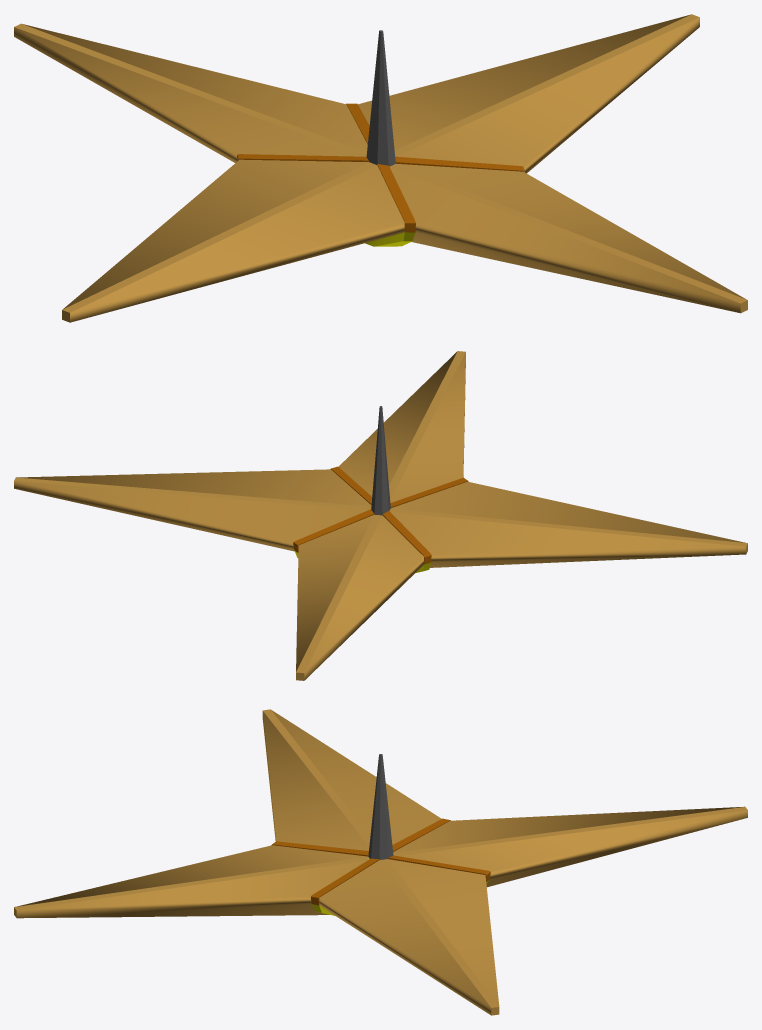
The model's file is Staryu_Lapel_Pin.fbx.
The picture shows the model from 3 angles, top to bottom: view 1: azimuth 30°, elevation 25°; view 2: azimuth 150°, elevation 25°; view 3: azimuth 270°, elevation 25°; orthographic projection. The views are drawn at different scales.
Visible parts, largest first — view 1: pCylinder1; view 2: pCylinder1; view 3: pCylinder1.
Boxes of the visible parts, x1,y1,x2,y2 form: pCylinder1: (14, 14, 747, 322); pCylinder1: (14, 351, 747, 680); pCylinder1: (14, 709, 747, 1015).
Bounding box in the file's own units: 0.0171 × 0.00426 × 0.0177.
